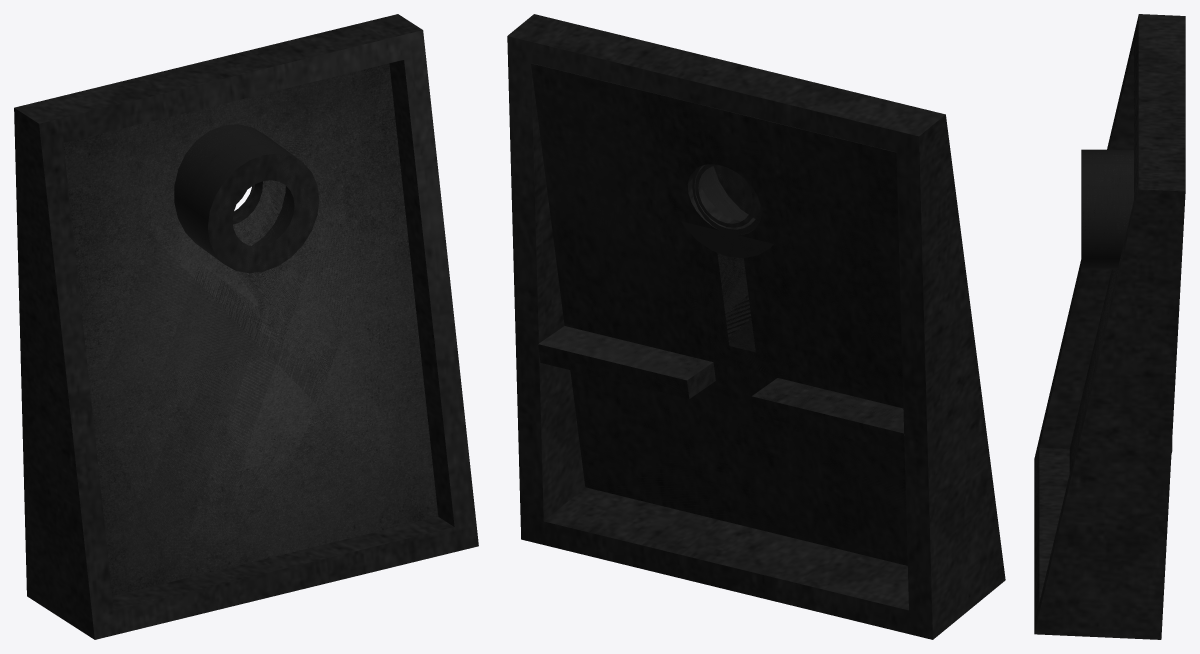
Rendered from estructura.obj.
3 views of the same model, side by side, from view 1: azimuth 30°, elevation 25°; view 2: azimuth 150°, elevation 25°; view 3: azimuth 270°, elevation 25° (orthographic). The views are drawn at different scales.
Parts seen in each view (by area): view 1: polySurface29 polySurface12; view 2: polySurface29 polySurface12; view 3: polySurface29 polySurface12.
Boxes of the visible parts, x1,y1,x2,y2 form: polySurface29 polySurface12: (14, 14, 478, 639); polySurface29 polySurface12: (507, 14, 1005, 639); polySurface29 polySurface12: (1034, 14, 1185, 639).
Bounding box in the file's own units: 6.2 × 7.43 × 2.26.
1 material, 1 textured.
